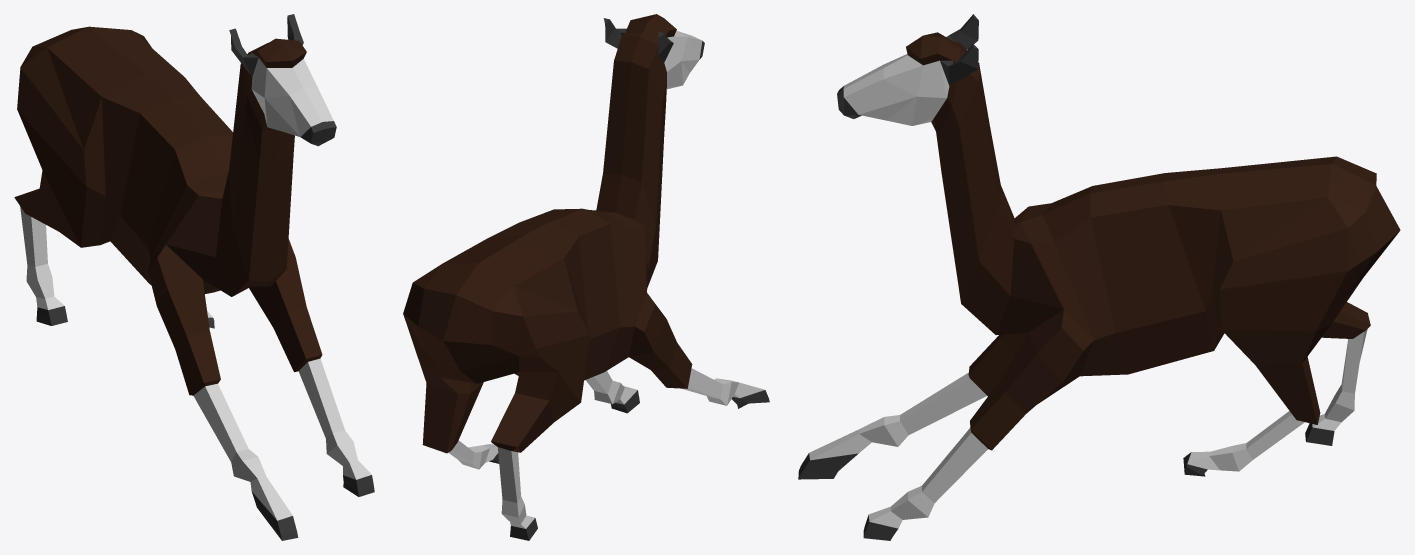
File: Llama__1_000018.obj
3 renders of one model, left to right at view 1: azimuth 30°, elevation 25°; view 2: azimuth 150°, elevation 25°; view 3: azimuth 270°, elevation 25°, orthographic. The views are drawn at different scales.
Visible parts, largest first — view 1: Llama_Cylinder; view 2: Llama_Cylinder; view 3: Llama_Cylinder.
Part boxes in pixels (box(x1,y1,x2,y2)): Llama_Cylinder: box(14, 14, 374, 540); Llama_Cylinder: box(403, 14, 769, 540); Llama_Cylinder: box(798, 14, 1400, 540).
Bounding box in the file's own units: 1.56 × 4.83 × 5.51.
